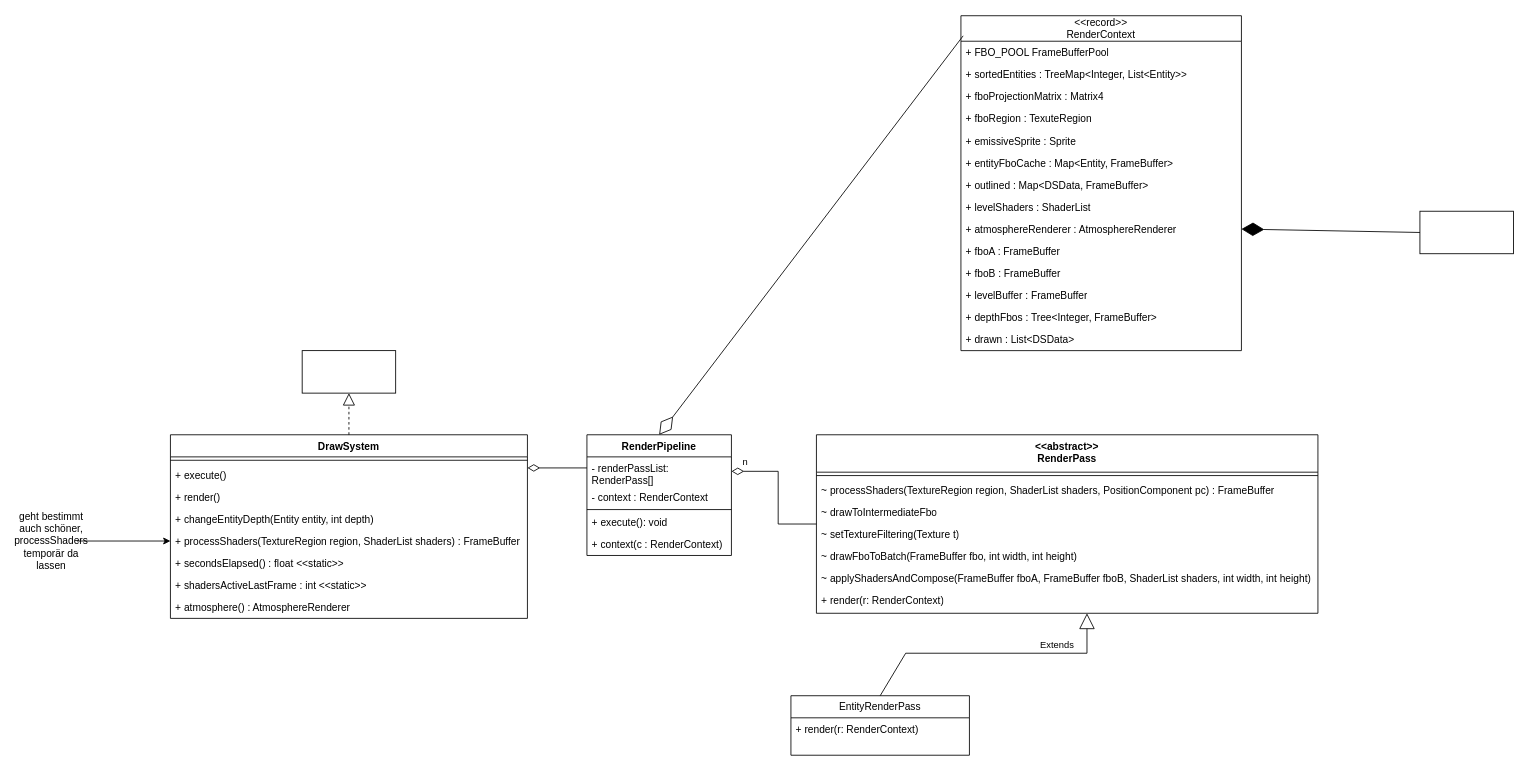
This 1530x773 diagram has some shape labels left out. Here are the shapes that lost their labels. From the top down, the centre of each, then its label:
point (1466, 232): AtmosphereRenderer
point (348, 371): «interface» System
